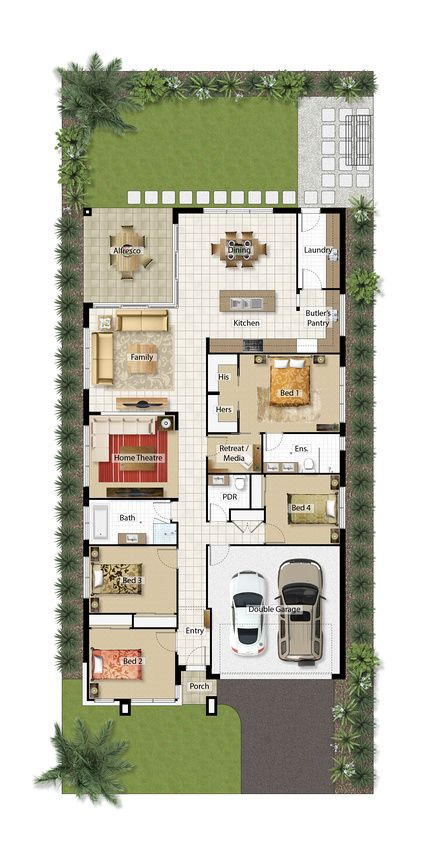room: (171, 206, 299, 355), (82, 302, 178, 415), (83, 612, 179, 708), (235, 351, 346, 434), (83, 411, 178, 500), (83, 543, 179, 630), (261, 471, 343, 547), (83, 496, 177, 546), (294, 206, 345, 290), (260, 430, 346, 475), (204, 350, 240, 434), (205, 472, 251, 523), (228, 506, 266, 534)
wall: (340, 529, 344, 678), (78, 301, 94, 330), (84, 599, 88, 661), (340, 452, 346, 487), (83, 389, 88, 423), (174, 207, 202, 213), (82, 303, 89, 326), (340, 337, 345, 364), (210, 606, 212, 671), (206, 542, 208, 607), (175, 653, 178, 683), (330, 673, 344, 679), (205, 666, 210, 677)
